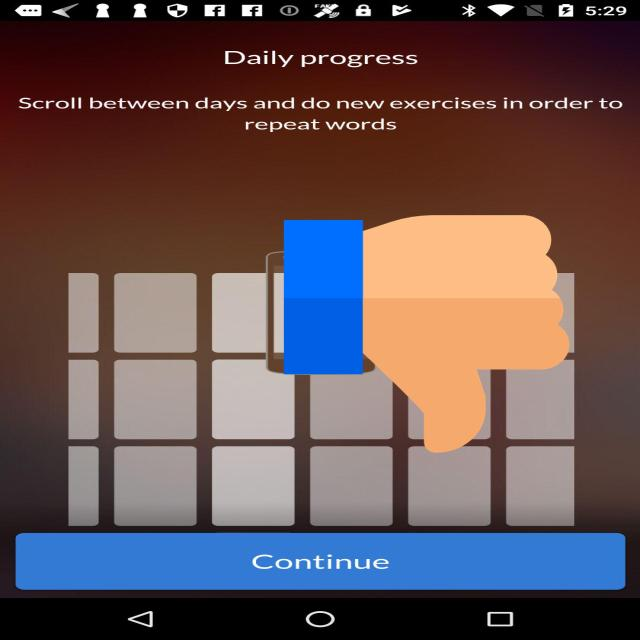obstruction: (284, 209, 569, 459)
